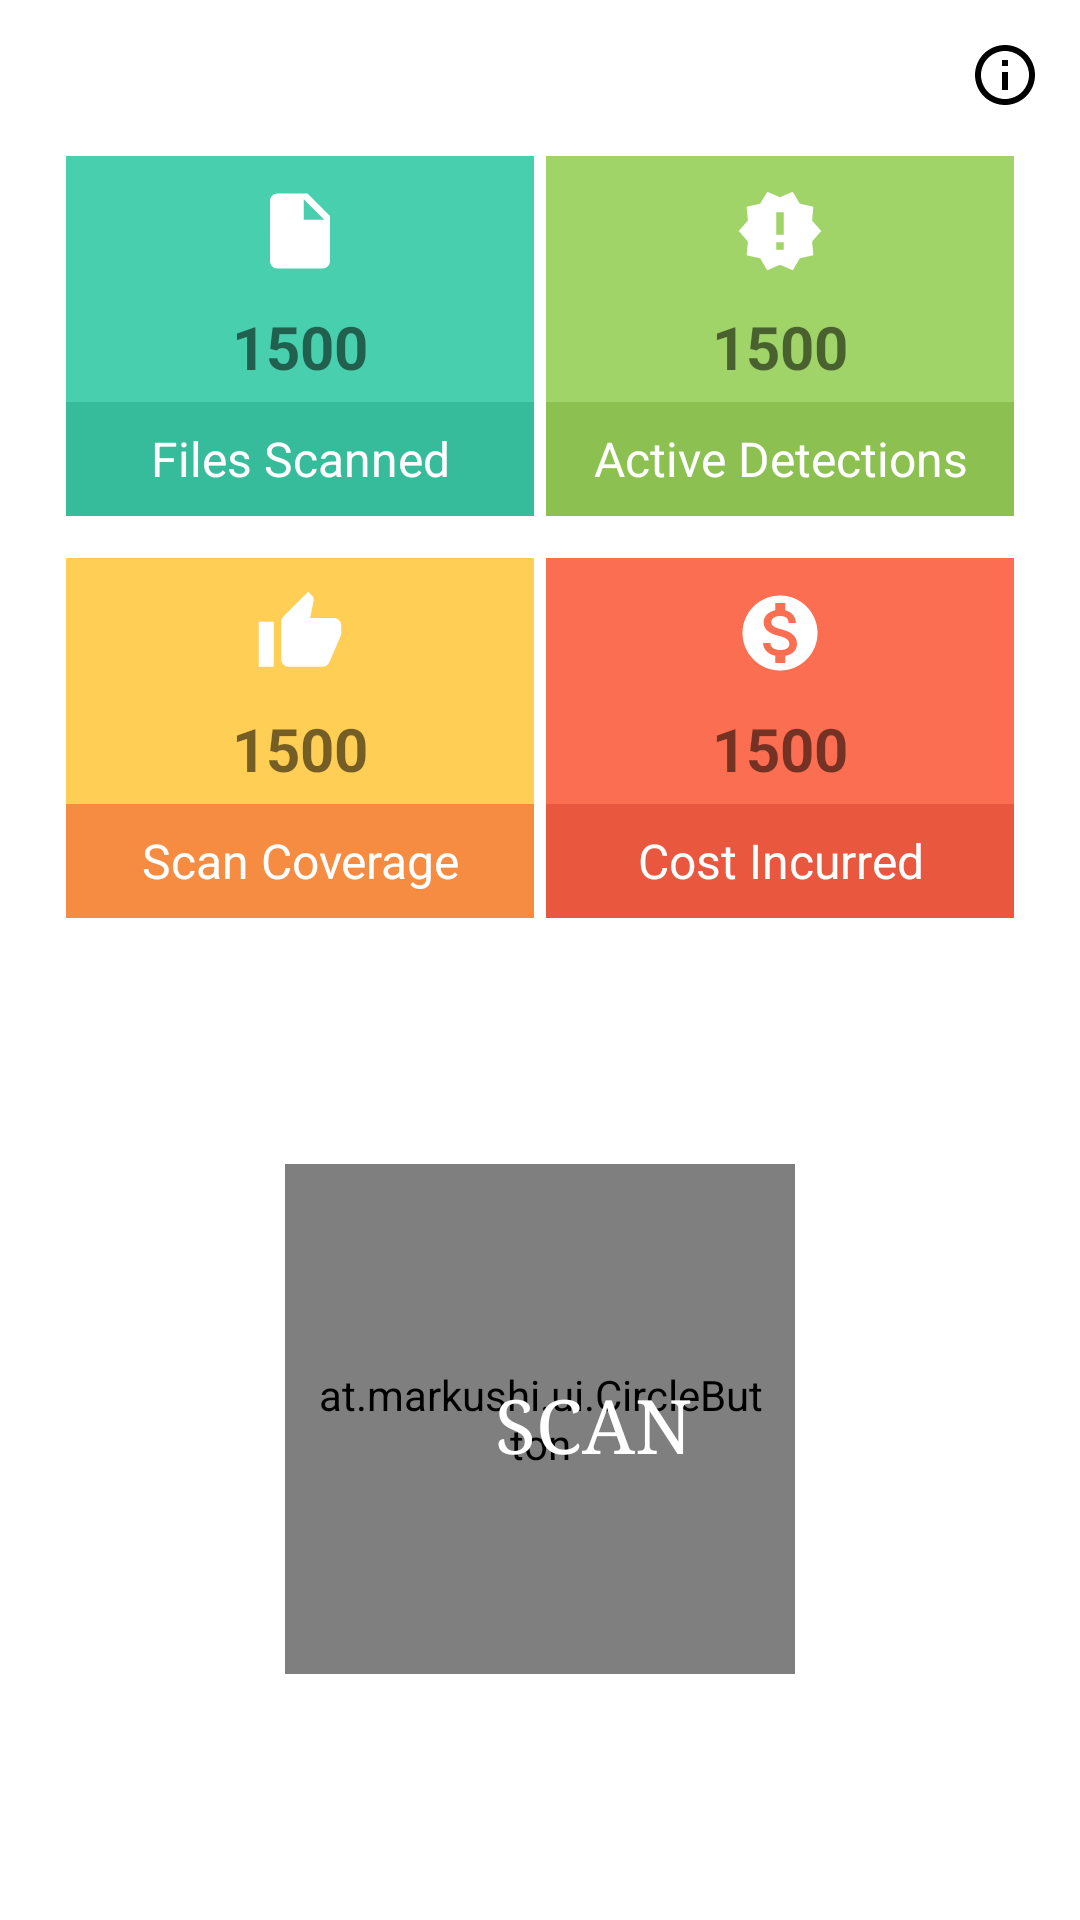

Icon click points for this 1080x1920 phone screenshot, format (x=x, y=y):
info: (x=1005, y=75)
